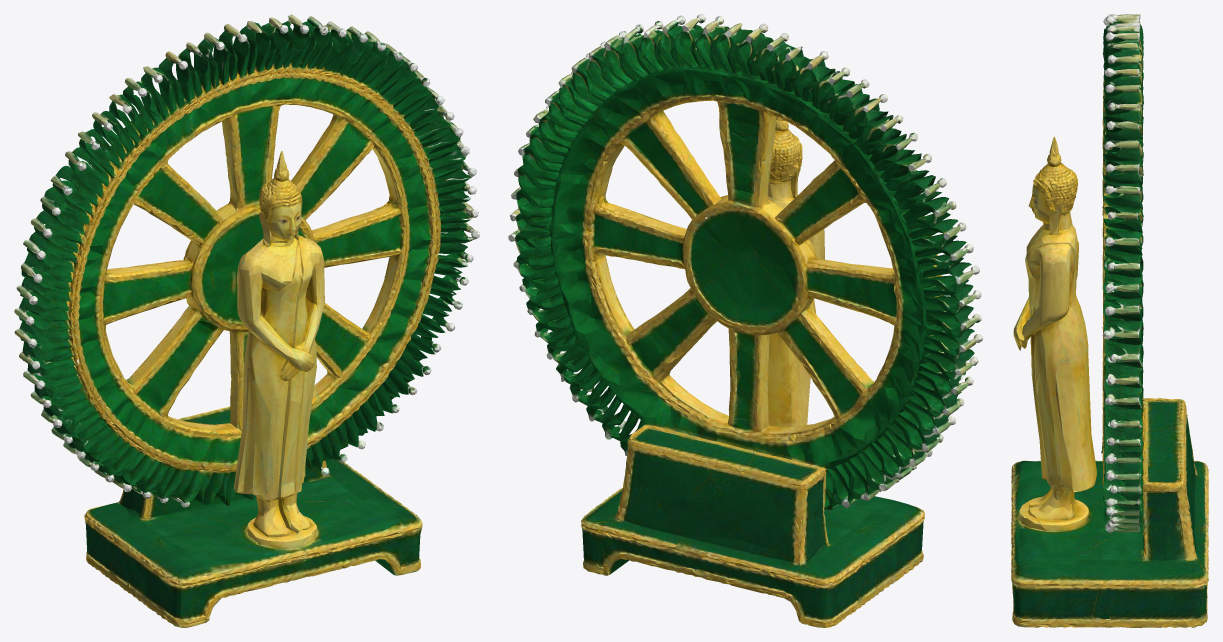
File: w3hwheel2.glb
3 views of the same model, side by side, from view 1: azimuth 30°, elevation 25°; view 2: azimuth 150°, elevation 25°; view 3: azimuth 270°, elevation 25° (orthographic). The views are drawn at different scales.
Parts seen in each view (by area): view 1: output_unwrapped; view 2: output_unwrapped; view 3: output_unwrapped.
Part boxes in pixels (x1,y1,x2,y2): output_unwrapped: (14, 14, 479, 627); output_unwrapped: (508, 14, 982, 627); output_unwrapped: (1011, 14, 1208, 627).
Size of the model in its own units: 0.6 by 0.6767 by 0.2285.
1 material, 1 textured.
